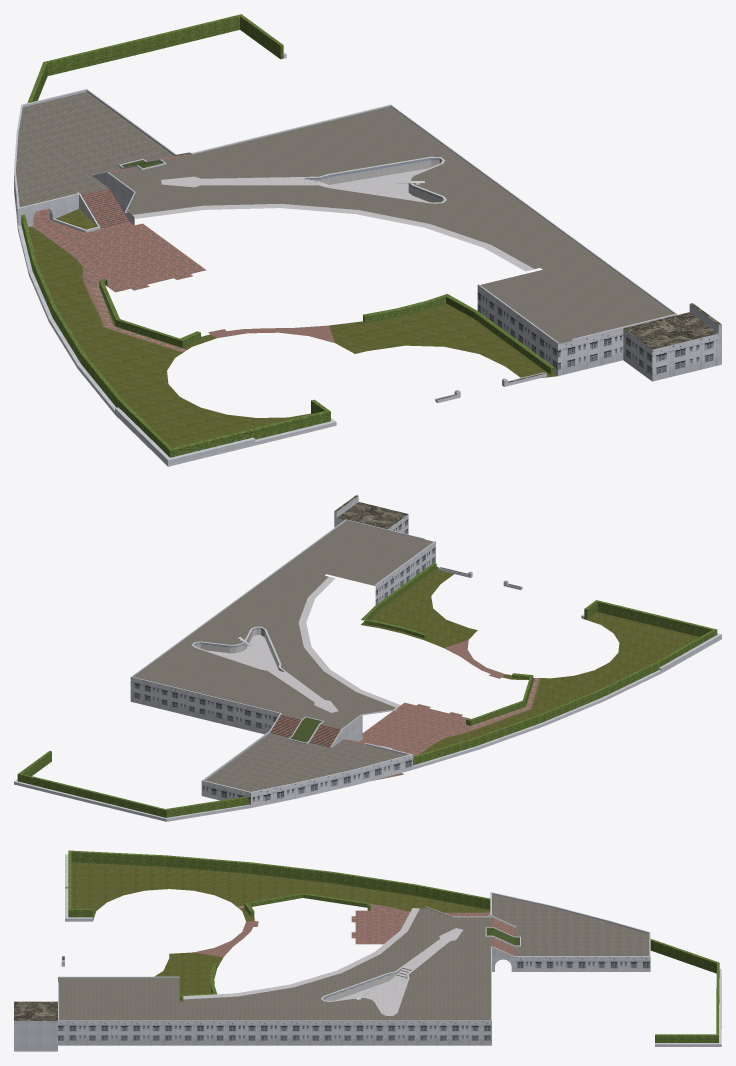
File: vrockcafe.obj
3 views of the same model, one above another, from view 1: azimuth 30°, elevation 25°; view 2: azimuth 150°, elevation 25°; view 3: azimuth 270°, elevation 25° (orthographic). The views are drawn at different scales.
Visible parts, largest first — view 1: vrockcafe; view 2: vrockcafe; view 3: vrockcafe.
Boxes of the visible parts, x1,y1,x2,y2 form: vrockcafe: (14, 14, 721, 466); vrockcafe: (14, 495, 721, 821); vrockcafe: (14, 850, 721, 1051).
Size of the model in its own units: 119 by 9.76 by 186.
Materials: 12 (12 with a texture image).
